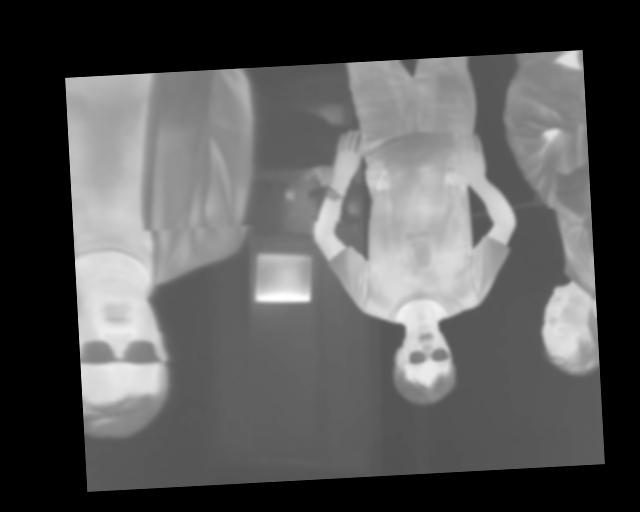face: (76, 278, 175, 441), (391, 319, 457, 408)
